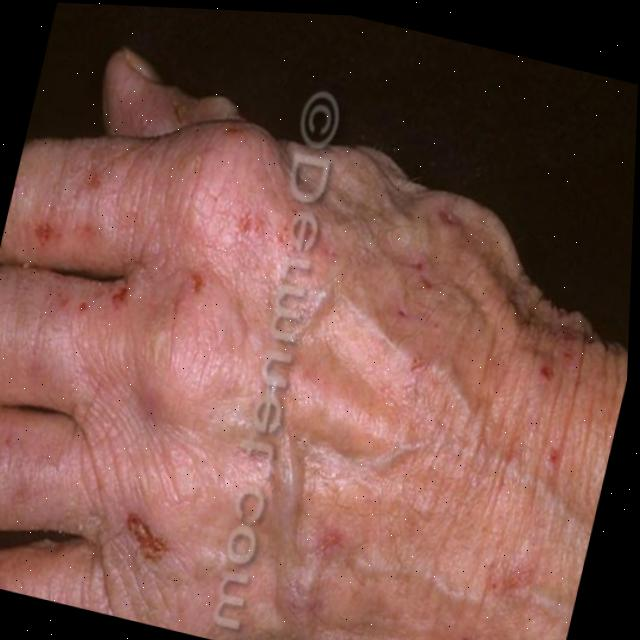Eczema: (0, 117, 624, 628)
